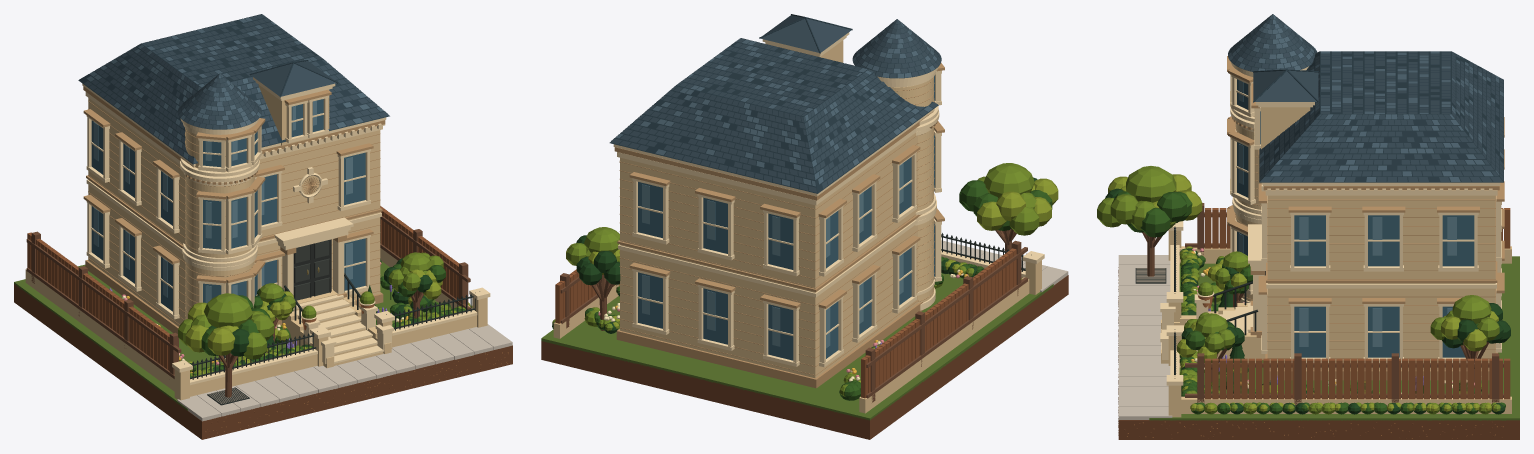
Rendered from italianate.glb.
3 renders of one model, left to right at view 1: azimuth 30°, elevation 25°; view 2: azimuth 150°, elevation 25°; view 3: azimuth 270°, elevation 25°, orthographic. The views are drawn at different scales.
Parts seen in each view (by area): view 1: House | limestone walls / limestone, Roof | hip and turret slate / slate, Site / soil, Roof | hip and turret slate / slate_dark, Site / paving, Windows | main house / trim, Garden boundary | stone and iron / fence, Garden boundary | stone and iron / limestone, Windows | main house / glass, House | limestone walls / joint, Trees / green_light, Roof | hip and turret slate / slate_light (+30 smaller); view 2: House | limestone walls / limestone, Roof | hip and turret slate / slate, Roof | hip and turret slate / slate_dark, Windows | main house / trim, Site / soil, House | limestone walls / joint, Site / grass, Windows | main house / glass, Garden boundary | stone and iron / fence, Roof | hip and turret slate / slate_light, House | limestone walls / trim, Garden boundary | stone and iron / limestone (+18 smaller); view 3: House | limestone walls / limestone, Roof | hip and turret slate / slate, Roof | hip and turret slate / slate_dark, Garden boundary | stone and iron / fence, Site / soil, Site / paving, Windows | main house / glass, Trees / green_light, Roof | hip and turret slate / slate_light, Windows | main house / trim, Site / grass, House | limestone walls / joint (+28 smaller).
Boxes of the visible parts, x1,y1,x2,y2 form: House | limestone walls / limestone: (88, 98, 380, 326); Roof | hip and turret slate / slate: (81, 14, 388, 163); Site / soil: (14, 284, 512, 439); Roof | hip and turret slate / slate_dark: (78, 14, 389, 164); Site / paving: (177, 324, 512, 421); Windows | main house / trim: (86, 115, 370, 319); Garden boundary | stone and iron / fence: (27, 206, 458, 370); Garden boundary | stone and iron / limestone: (25, 248, 487, 400); Windows | main house / glass: (91, 120, 365, 311); House | limestone walls / joint: (83, 86, 385, 333); Trees / green_light: (178, 252, 443, 359); Roof | hip and turret slate / slate_light: (86, 16, 383, 159); House | limestone walls / limestone: (620, 133, 917, 378); Roof | hip and turret slate / slate: (610, 19, 941, 192); Roof | hip and turret slate / slate_dark: (609, 19, 941, 193); Windows | main house / trim: (632, 152, 916, 367); Site / soil: (541, 275, 1068, 439); House | limestone walls / joint: (614, 111, 933, 388); Site / grass: (541, 273, 1053, 420); Windows | main house / glass: (638, 157, 911, 360); Garden boundary | stone and iron / fence: (555, 248, 1016, 398); Roof | hip and turret slate / slate_light: (616, 19, 937, 186); House | limestone walls / trim: (613, 108, 934, 297); Garden boundary | stone and iron / limestone: (553, 258, 1041, 413); House | limestone walls / limestone: (1267, 195, 1495, 370); Roof | hip and turret slate / slate: (1228, 14, 1503, 181); Roof | hip and turret slate / slate_dark: (1228, 14, 1503, 182); Garden boundary | stone and iron / fence: (1205, 208, 1510, 399); Site / soil: (1118, 267, 1519, 439); Site / paving: (1118, 255, 1172, 419); Windows | main house / glass: (1294, 215, 1474, 357); Trees / green_light: (1097, 166, 1499, 353); Roof | hip and turret slate / slate_light: (1228, 14, 1503, 181); Windows | main house / trim: (1261, 196, 1501, 362); Site / grass: (1149, 256, 1519, 420); House | limestone walls / joint: (1263, 186, 1499, 380).
Size of the model in its own units: 12.62 by 11.3 by 13.91.
